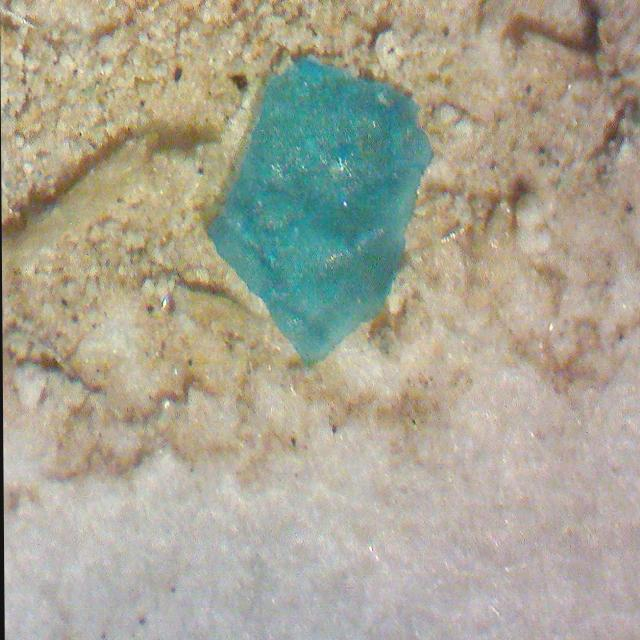microplastic: (206, 52, 432, 372)
